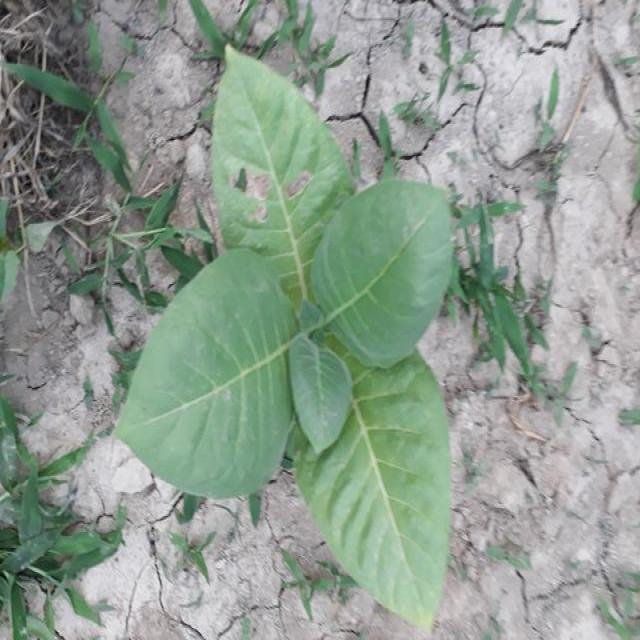crop: (127, 48, 479, 622)
